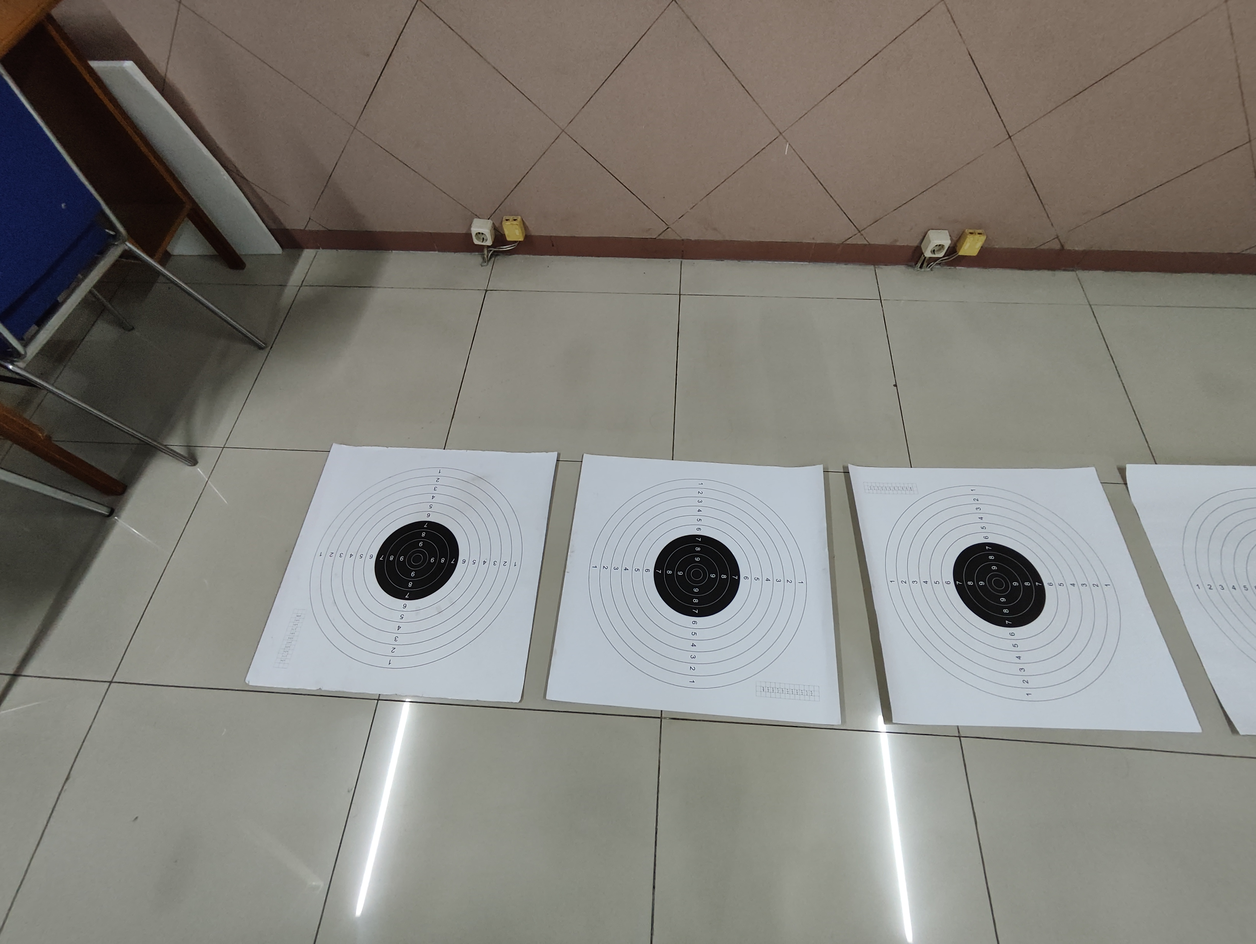target: (867, 477, 1137, 711), (576, 456, 823, 699), (304, 446, 534, 692)
